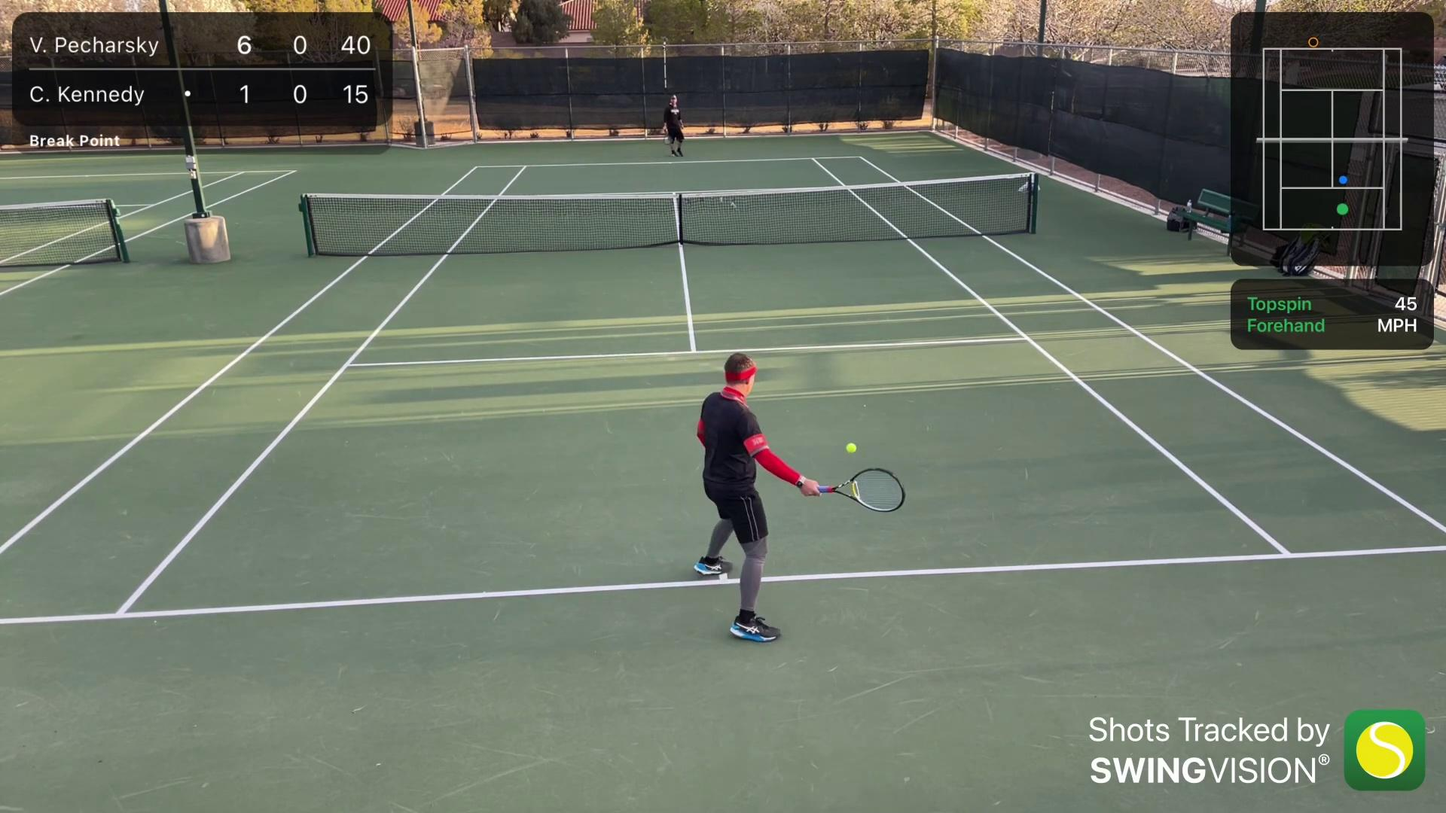ball: (844, 442, 859, 454)
